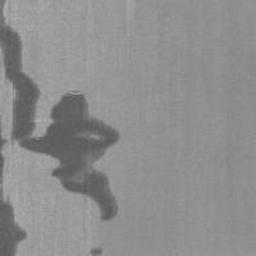Water spot: (0, 0, 122, 256), (88, 246, 104, 256)
